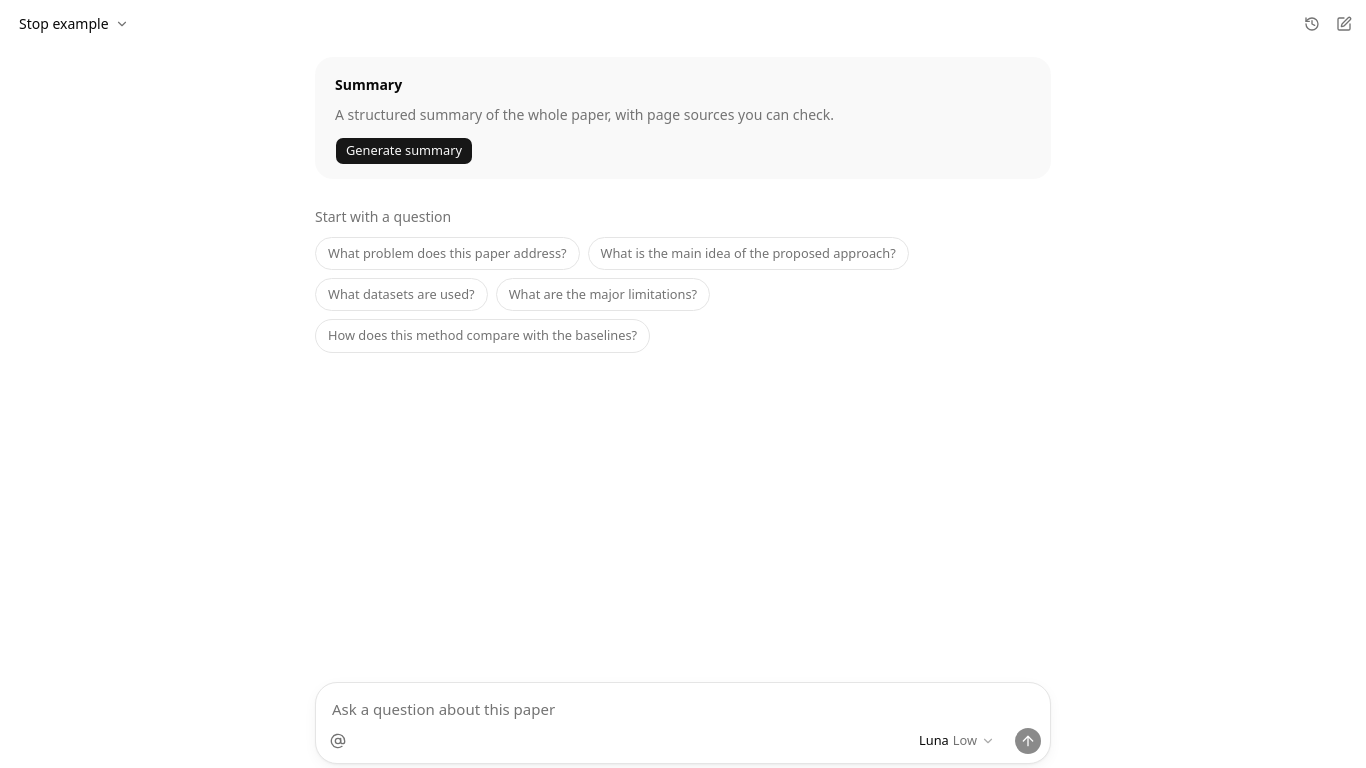
Scenario: Given a streaming answer, When Stop generation is pressed, Then the partial answer stays once as interrupted and nothing is resent
The width and height of the screenshot is (1366, 768).
Type "What is supported?" into the field named "Question about this paper".
click(683, 705); type("What is supported?")  # box 316,683 -> 1050,727
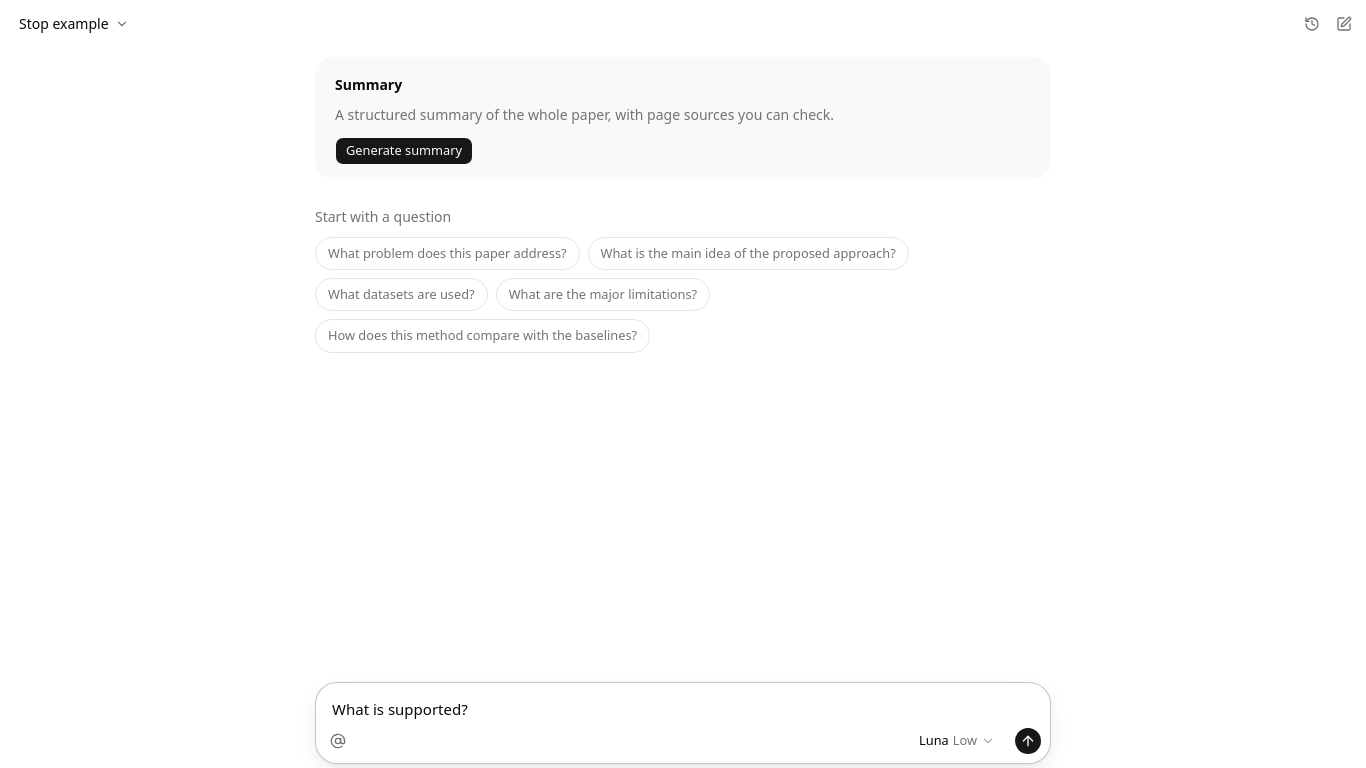
Click the button named "Ask question".
click(1028, 741)  # box 1014,727 -> 1042,755
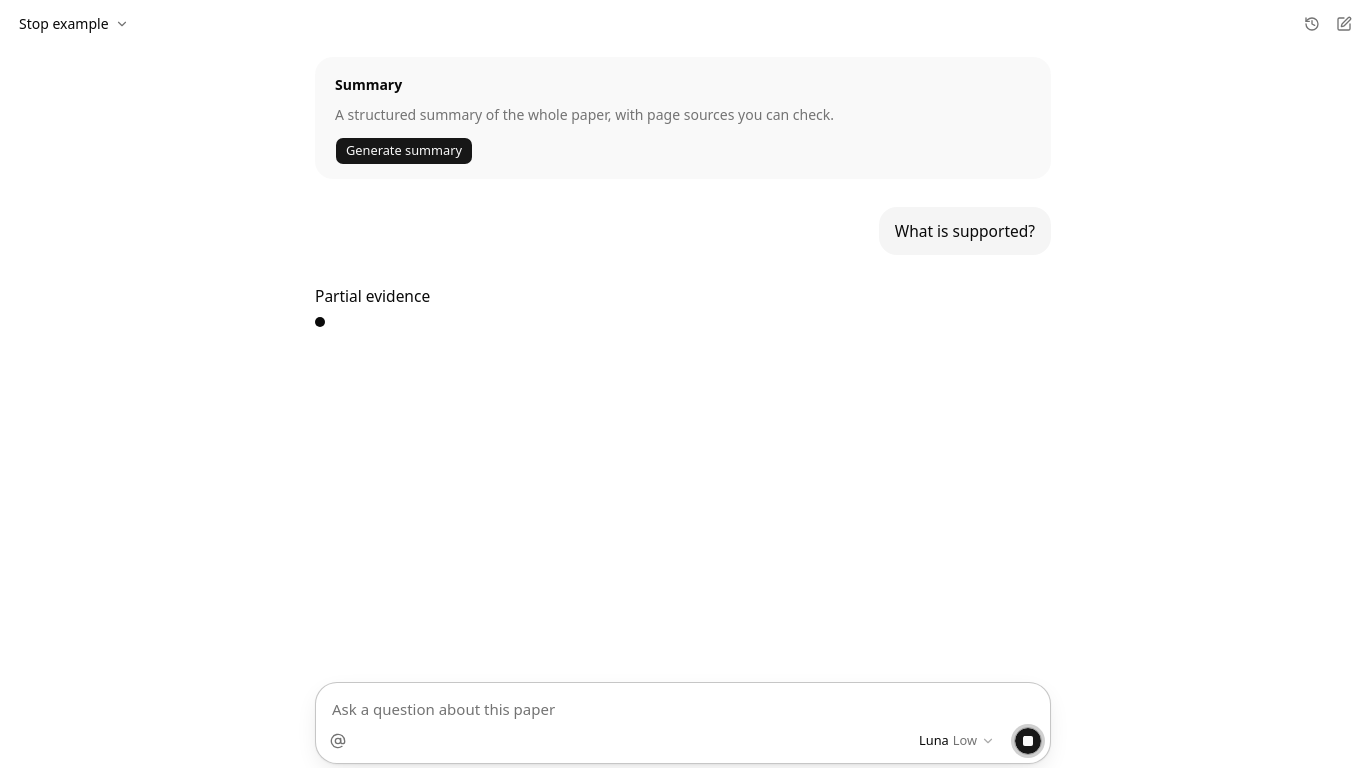
expect the text "Partial evidence" is shown: met, box 315,285 -> 430,307
Click the button named "Stop generation".
click(1028, 741)  # box 1014,727 -> 1042,755
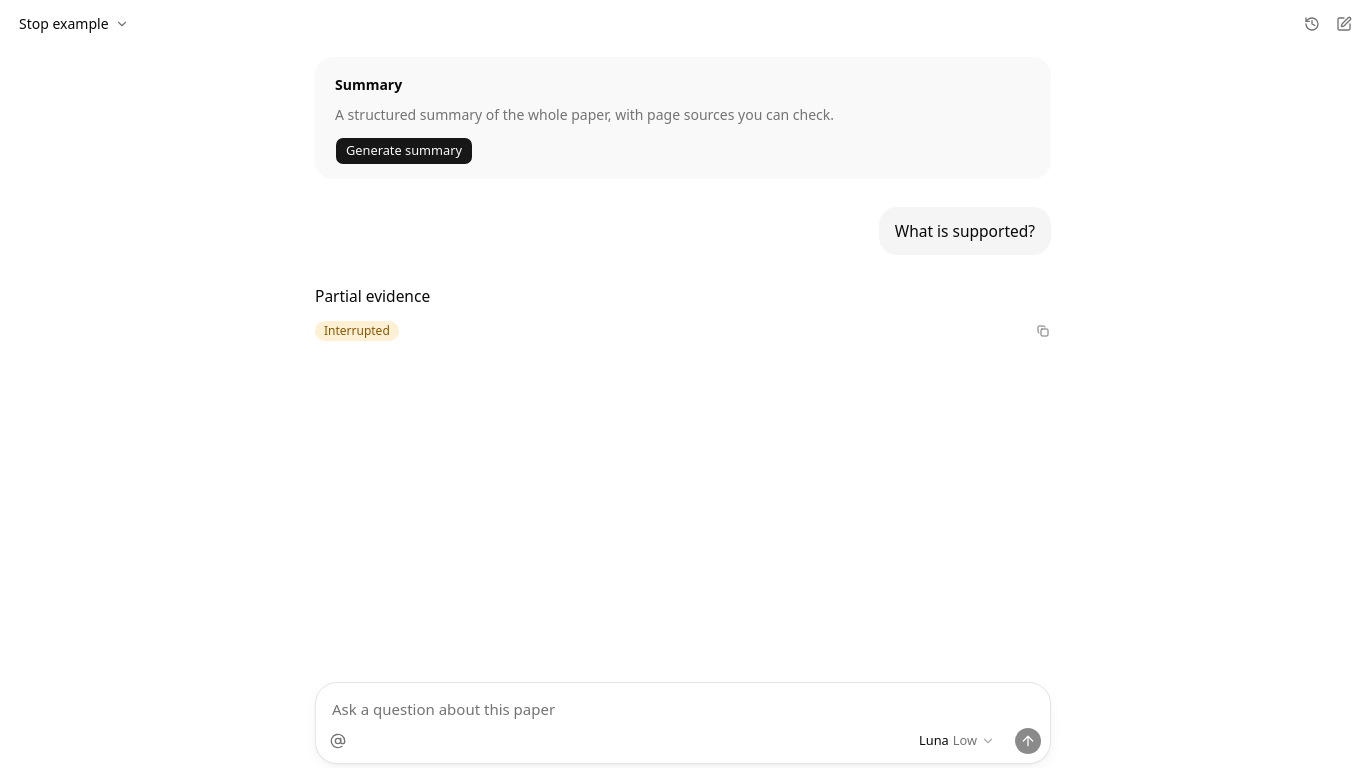
expect the text "Partial evidence" is shown once: met, box 315,285 -> 430,307
expect the text "Interrupted" is shown: met, box 315,321 -> 399,341
expect the button named "Ask question" is shown: met, box 1014,727 -> 1042,755
